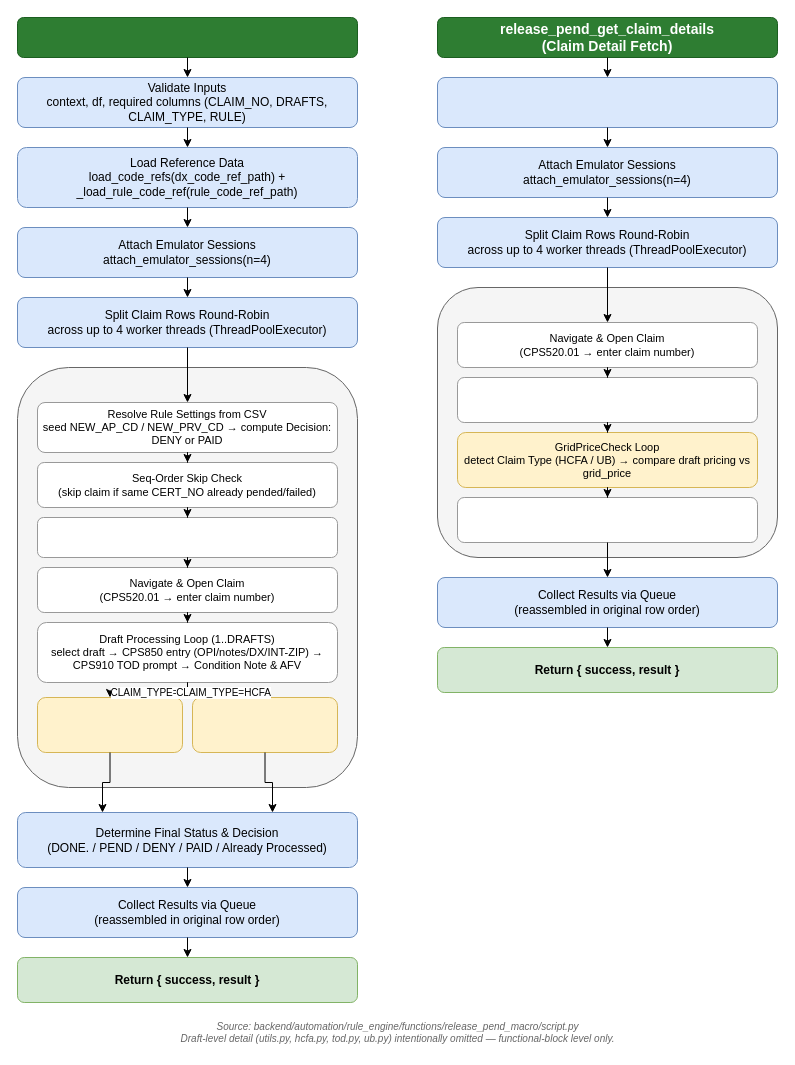
The diagram is 795 pixels wide and 1065 high, and some of its shapes have lost their labels. Here are the shapes that lost their labels. From the top down, the box of each, then its label:
(16, 16, 358, 58): release_pend_run_batch (Batch Release / Pend Processor)
(436, 76, 778, 128): Load Code Refs load_code_refs(dx_code_ref_path) → grid_price table
(456, 376, 758, 422): Read Pend Code & Count Drafts (handles multi-page "MORE DATA")
(436, 286, 778, 558): Per Worker Thread — Process Claim Detail Row ( _process_claim_detail_row )
(36, 516, 338, 558): TOD Update ( tod_update )
(456, 496, 758, 542): Read Old Provider Code (CPS408 screen)
(16, 366, 358, 788): Per Worker Thread — Process Claim Row ( _process_release_pend_row )
(36, 696, 182, 752): UB Data Entry ub_data_entry / ub_per_diem_process
(192, 696, 338, 752): HCFA Data Entry hcfa_data_entry
